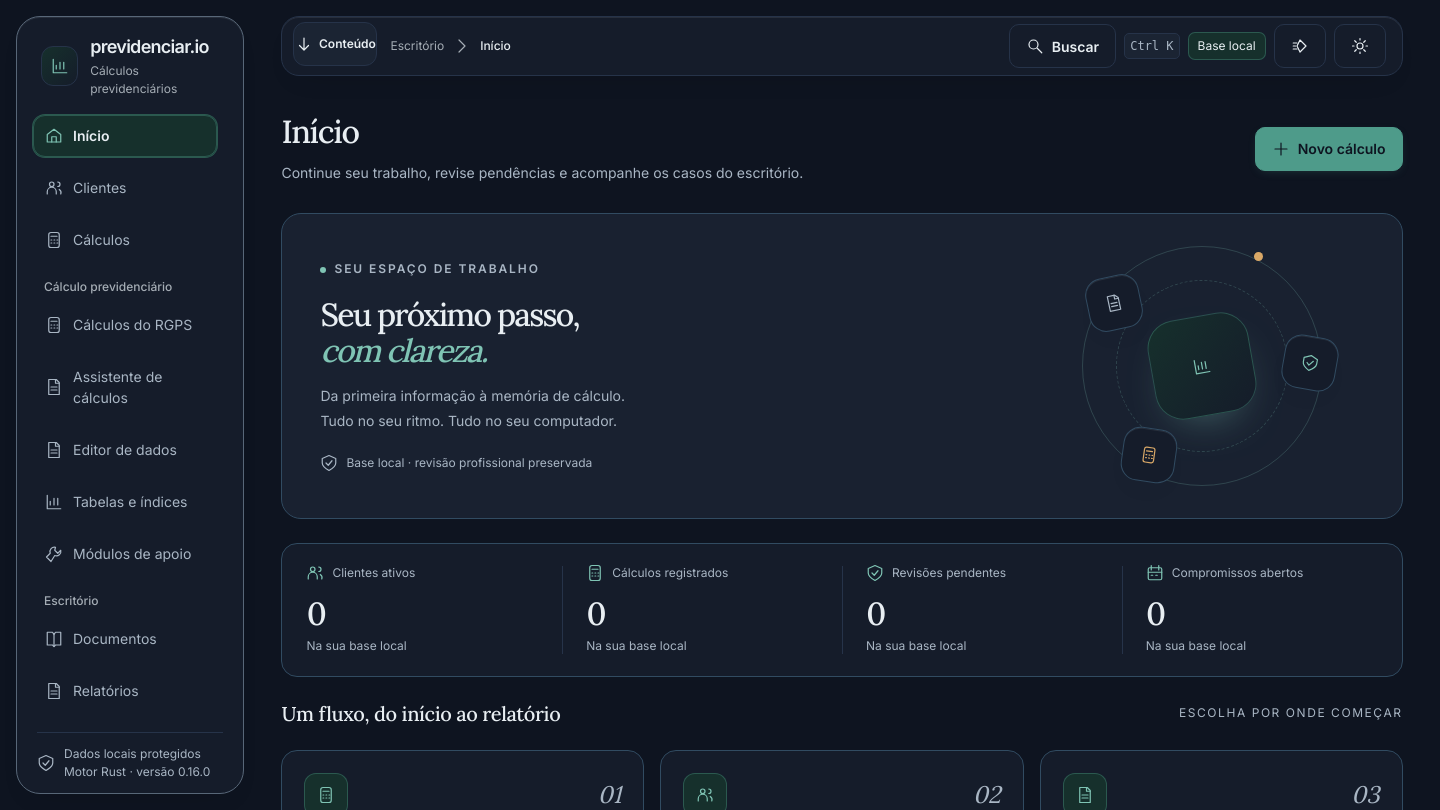
Test: desktop UI workflows with mocked IPC boundary › creates a synthetic client and saves the complete workspace
Expected: the heading "Início" is shown, [281,111,359,152]
Step 1. Click the button "Clientes" → (125, 188), box [32,166,218,210]
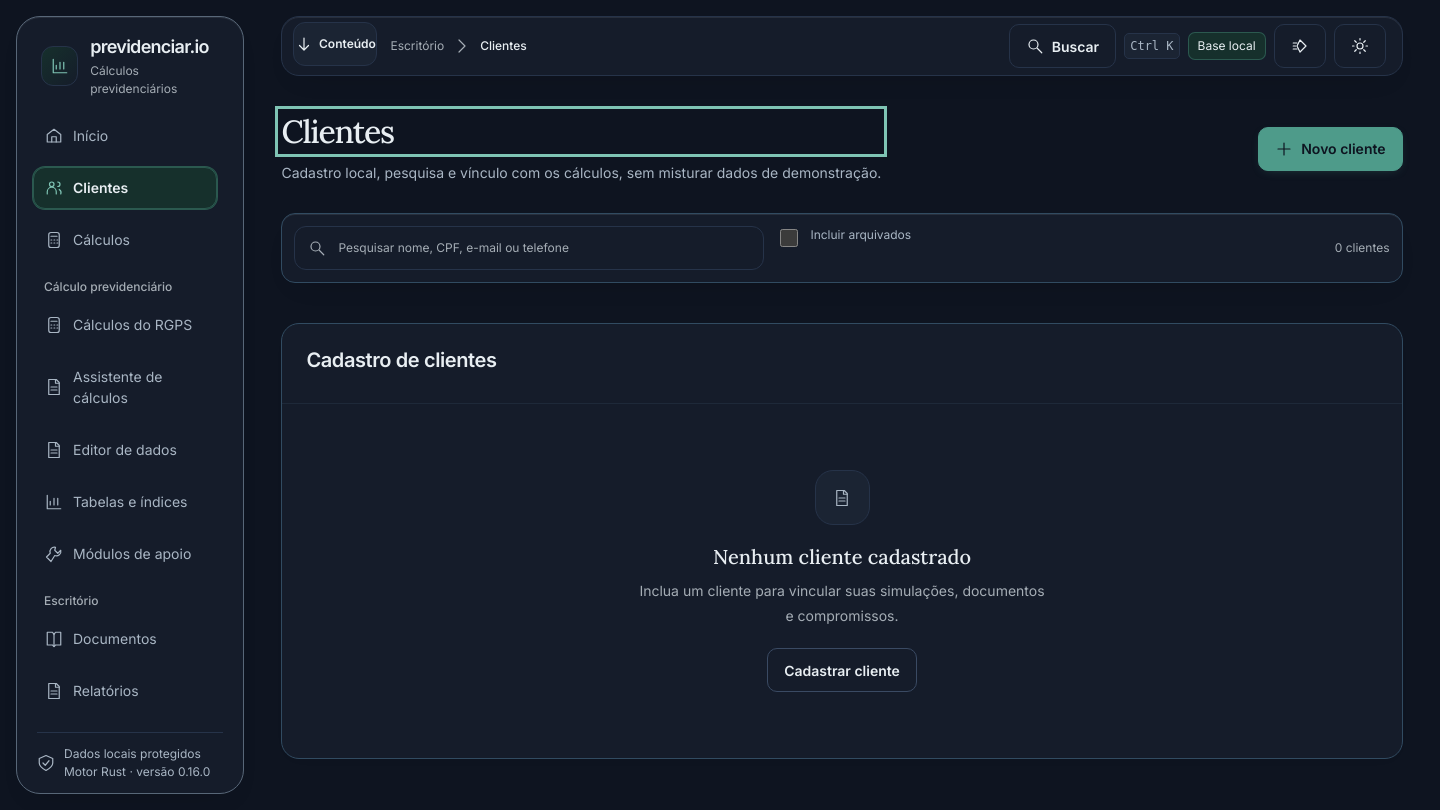
Step 2. Click the button "Novo cliente" → (1330, 149), box [1258,127,1402,171]
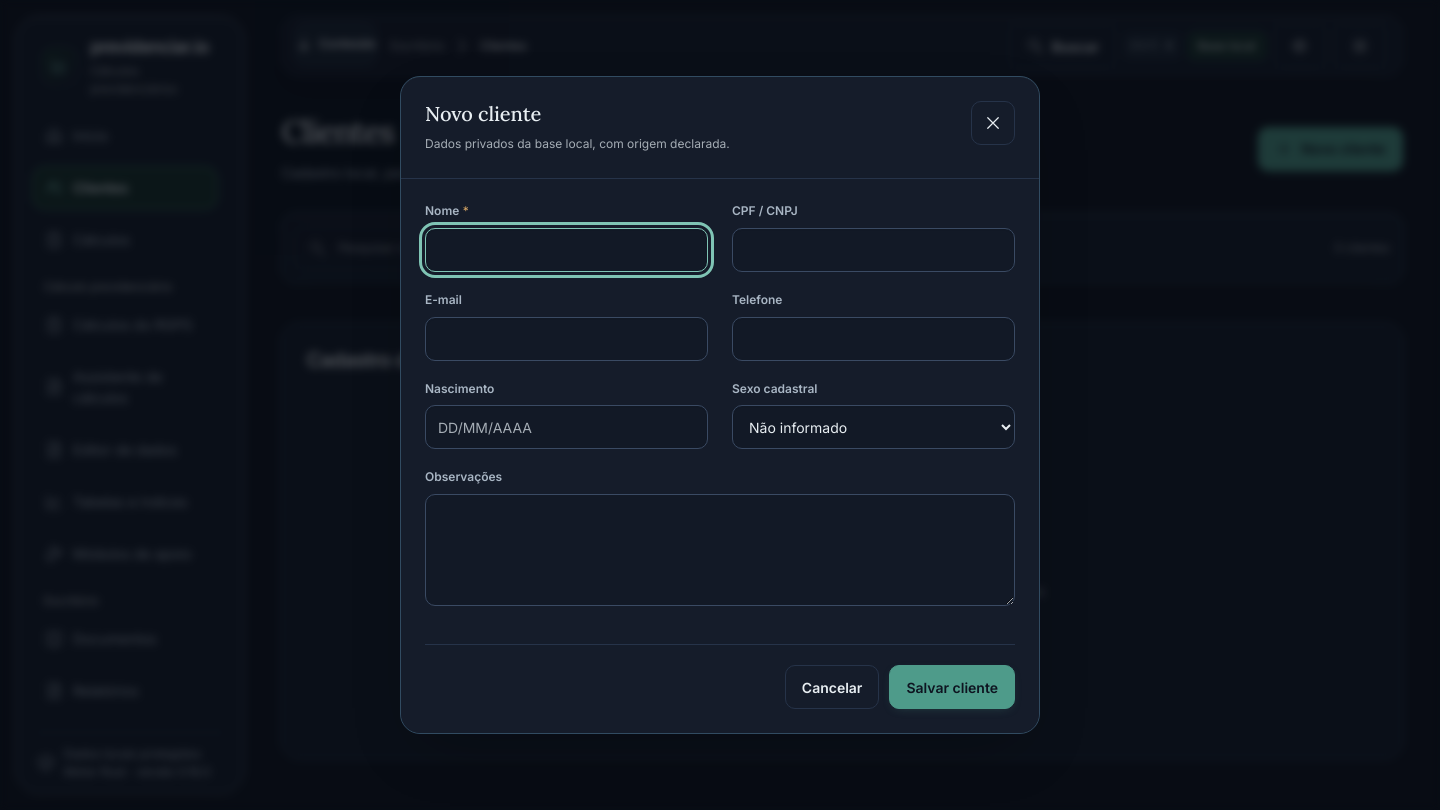
Step 3. Type "Cliente Sintético Teste" into the field labelled "Nome *" → (566, 250), box [425,228,708,272]
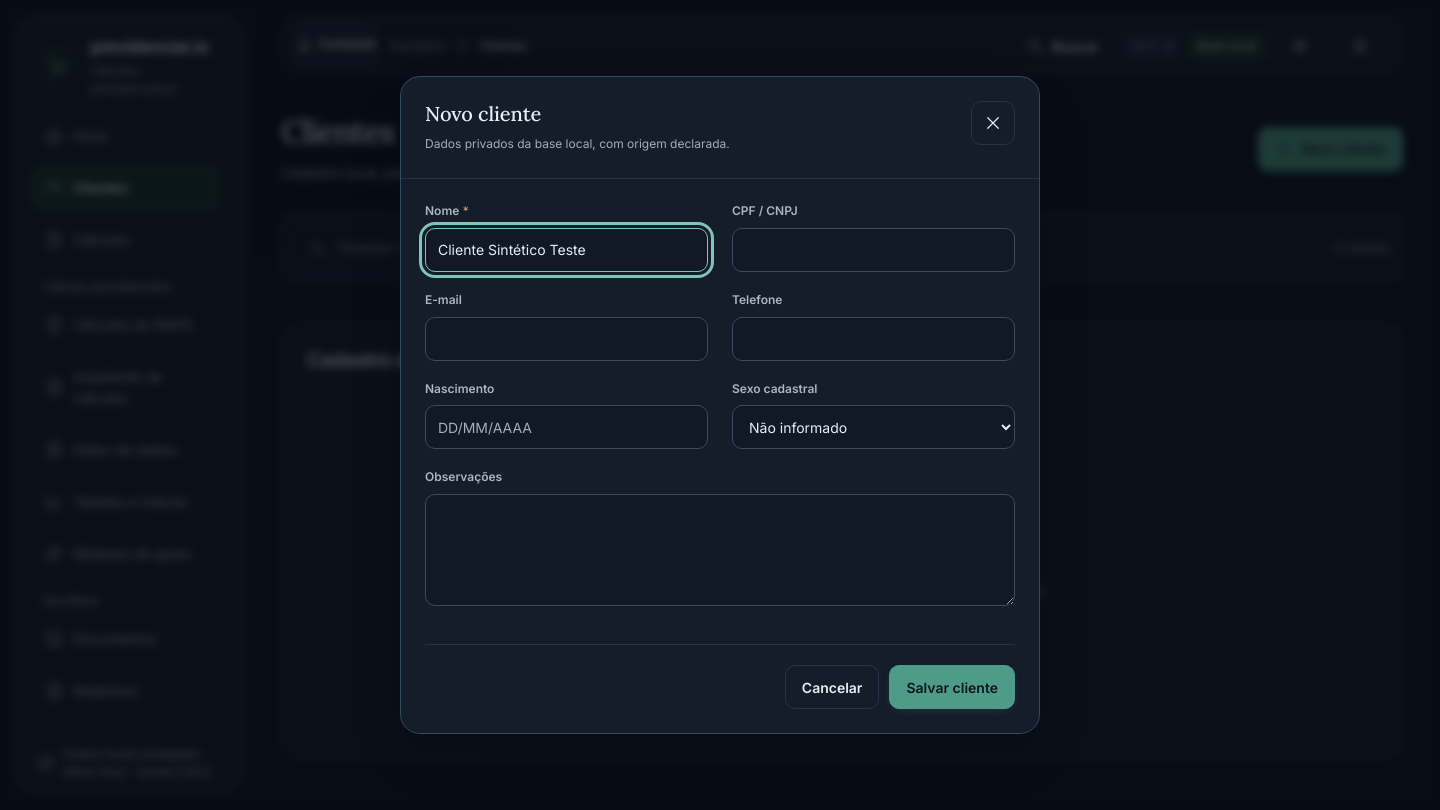
Step 4. Click the button "Salvar cliente" → (952, 687), box [889,665,1015,709]
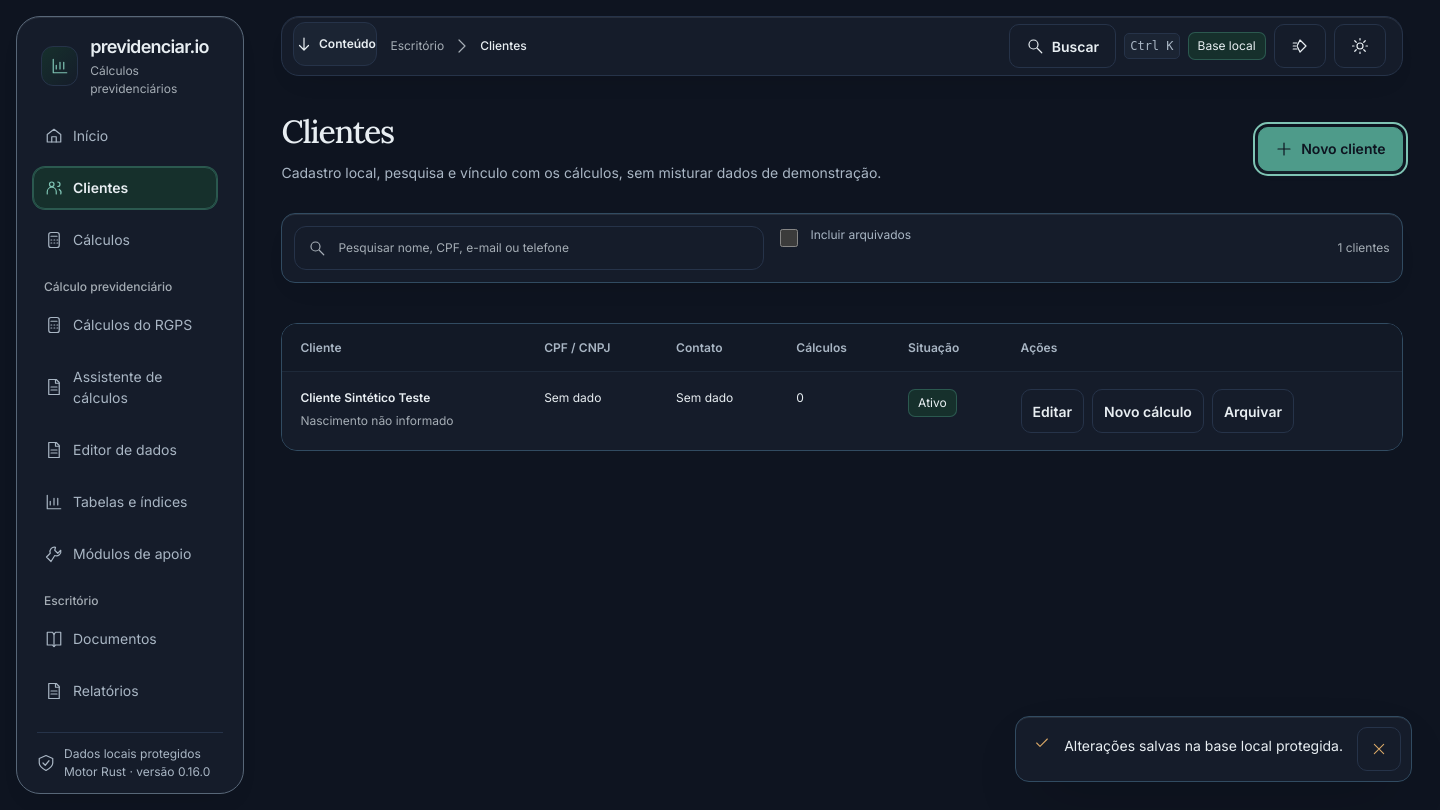
Now the text "Cliente Sintético Teste" is shown, box [300,390,430,405]
